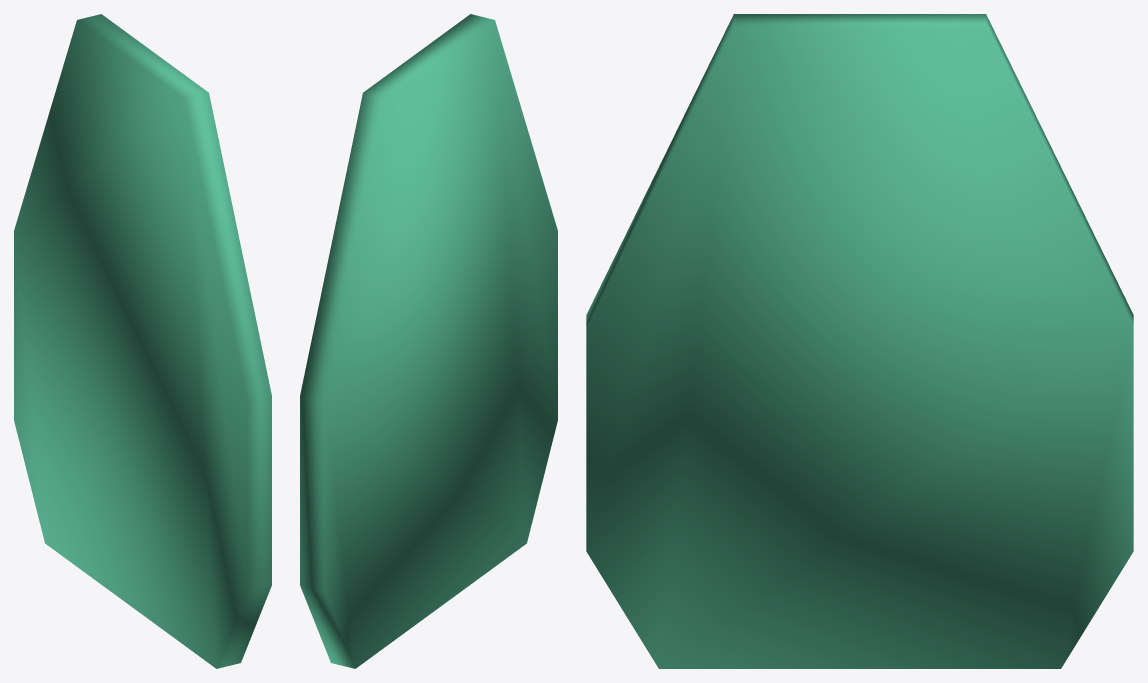
The model's file is flesh_collision.obj.
3 renders of one model, left to right at view 1: azimuth 30°, elevation 25°; view 2: azimuth 150°, elevation 25°; view 3: azimuth 270°, elevation 25°, orthographic. The views are drawn at different scales.
Visible parts, largest first — view 1: avocadoHalf.003_avocadoHalf.004; view 2: avocadoHalf.003_avocadoHalf.004; view 3: avocadoHalf.003_avocadoHalf.004.
Boxes of the visible parts, x1,y1,x2,y2 form: avocadoHalf.003_avocadoHalf.004: [14, 14, 271, 668]; avocadoHalf.003_avocadoHalf.004: [300, 14, 557, 668]; avocadoHalf.003_avocadoHalf.004: [586, 14, 1133, 668].
Bounding box in the file's own units: 0.00325 × 0.0695 × 0.0537.
